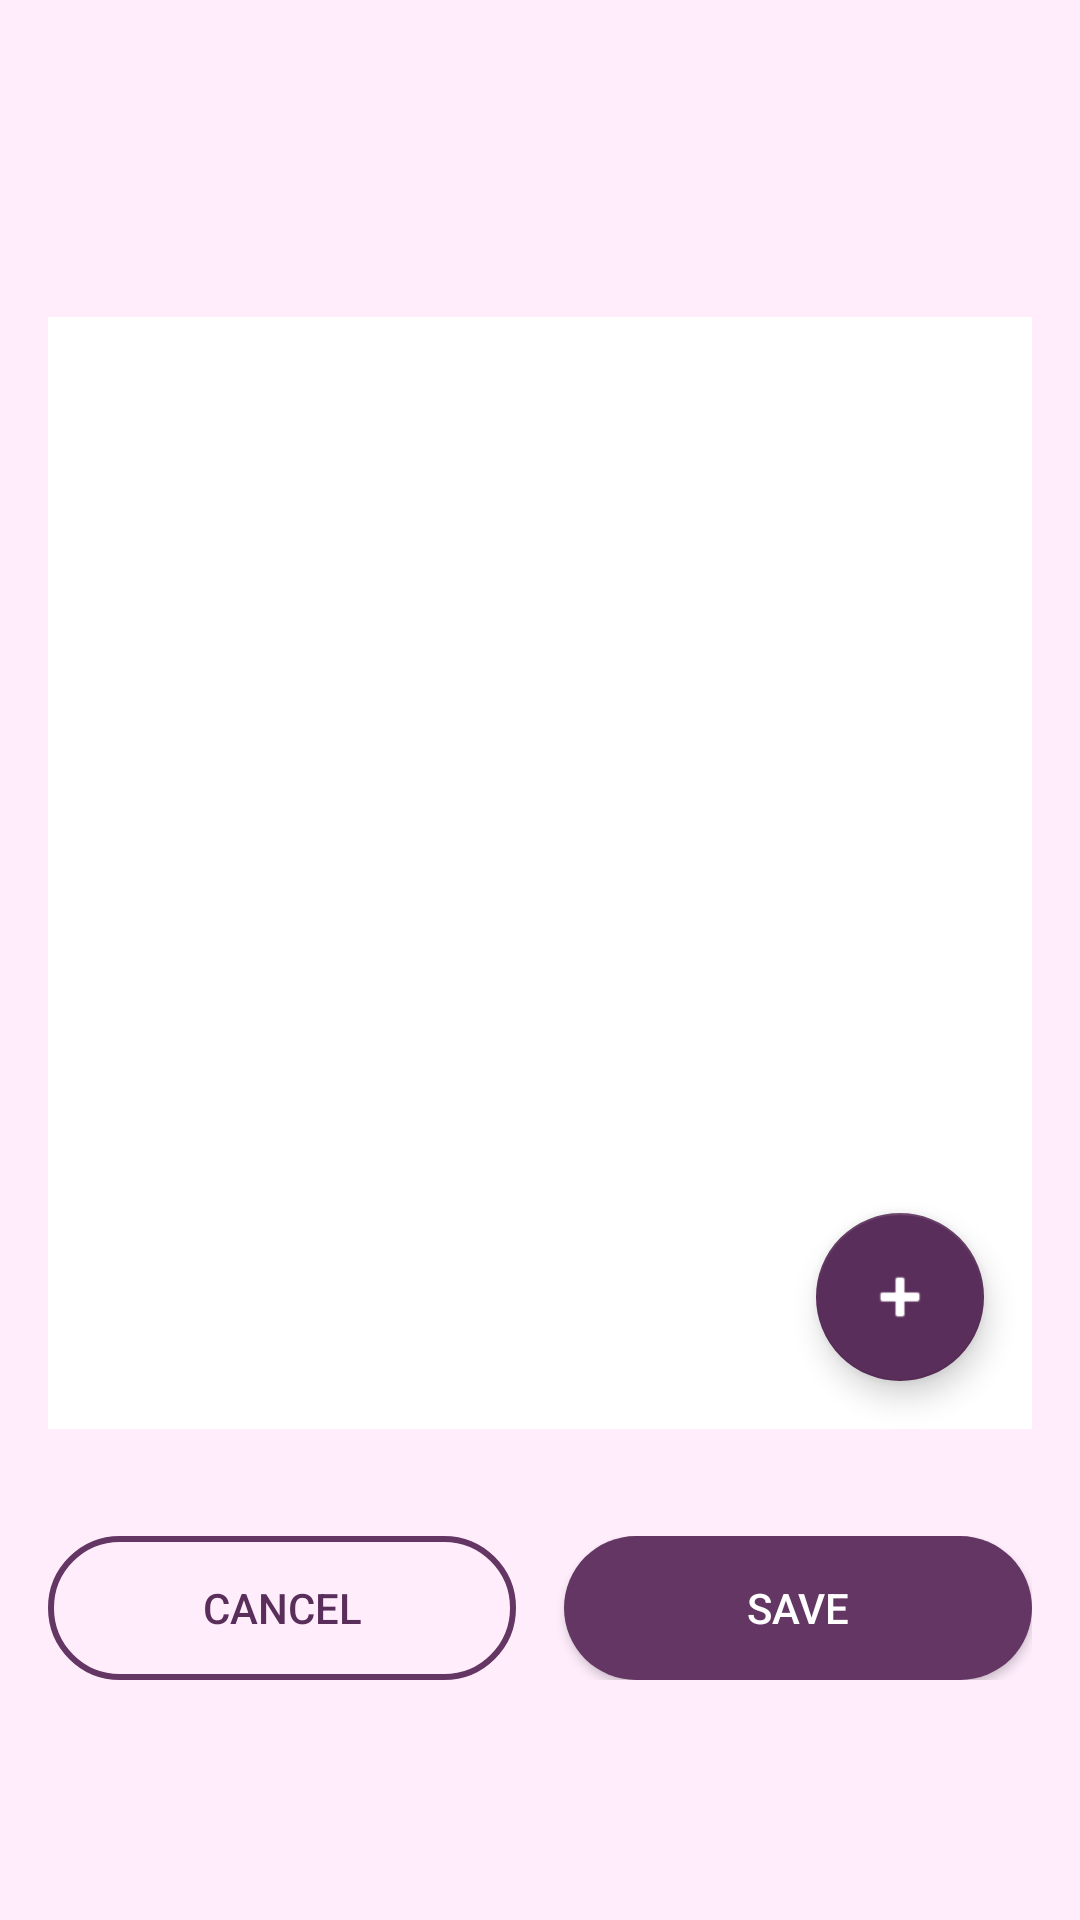

Screen size 1080px x 1920px. Icon name, then its center in pixels as (x=x, y=y):
add: (x=900, y=1297)
